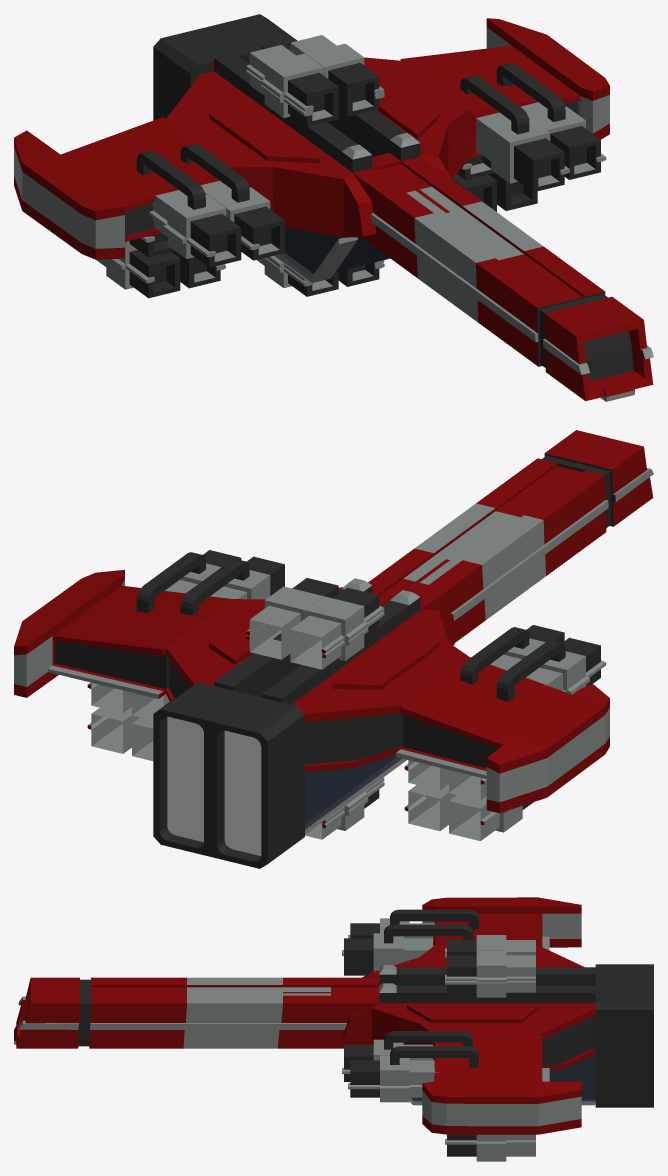
Rendered from SpaceShip.fbx.
3 renders of one model, top to bottom at view 1: azimuth 30°, elevation 25°; view 2: azimuth 150°, elevation 25°; view 3: azimuth 270°, elevation 25°, orthographic. The views are drawn at different scales.
Visible parts, largest first — view 1: Cube; view 2: Cube; view 3: Cube.
Part boxes in pixels (x1,y1,x2,y2): Cube: [14, 14, 653, 401]; Cube: [14, 430, 653, 868]; Cube: [14, 897, 653, 1161].
Bounding box in the file's own units: 1724 × 663 × 2334.
